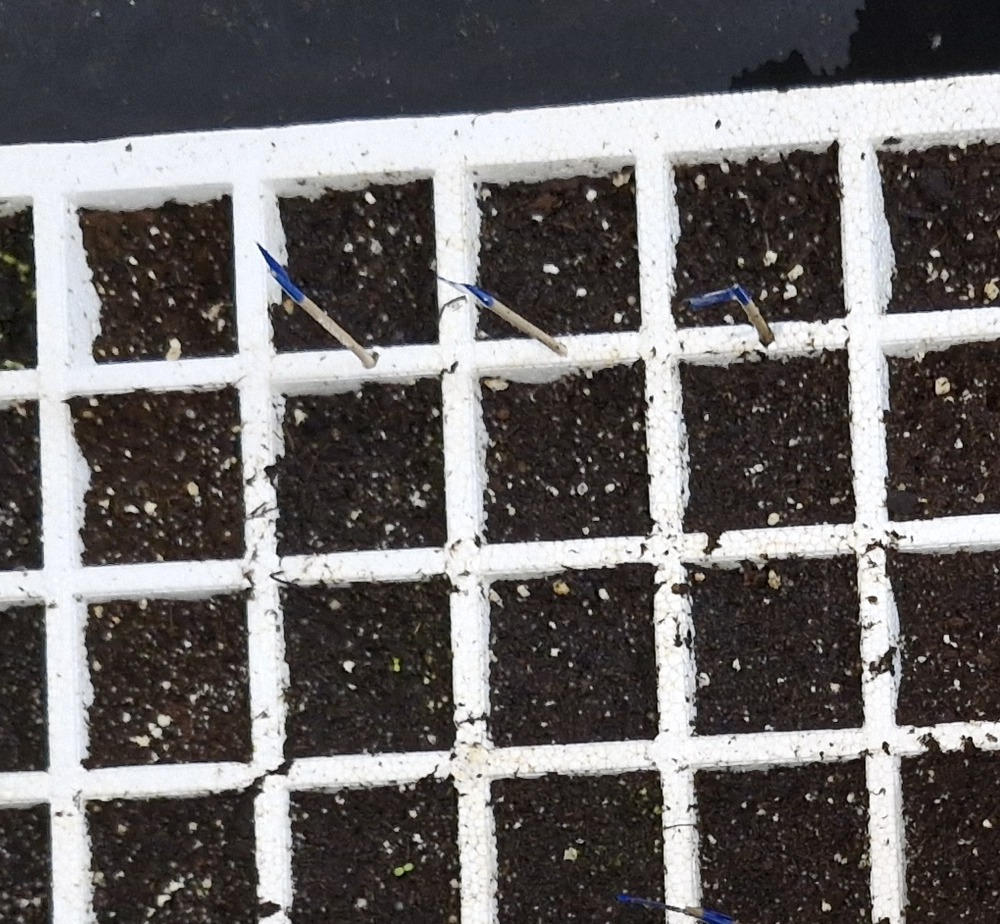Germinacao: (394, 863, 413, 876)
